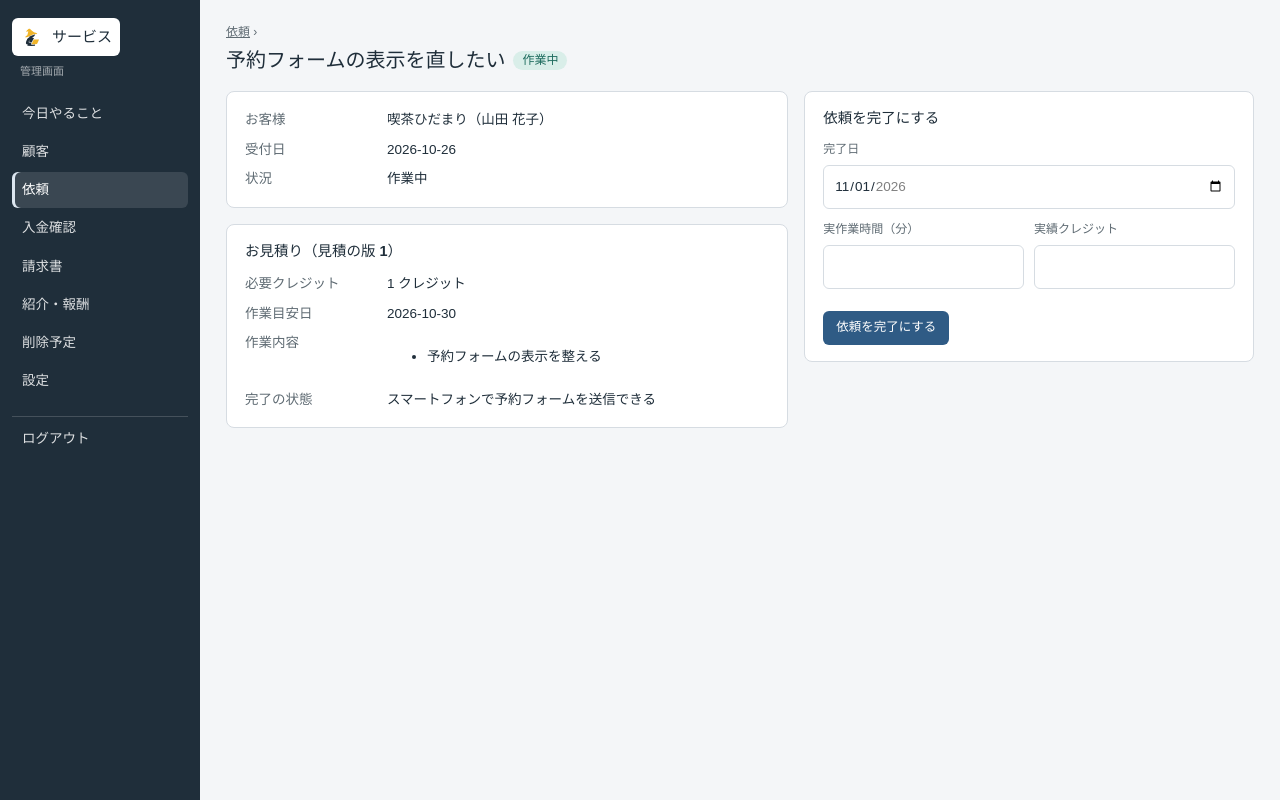
Test: request and estimate routes › records 0 actual credits separately from actual minutes after explicit confirmation
The width and height of the screenshot is (1280, 800).
Type "2026-10-27" into the date field labelled "完了日". click: x=1029, y=187
box: top-left (823, 165), bottom-right (1235, 209)
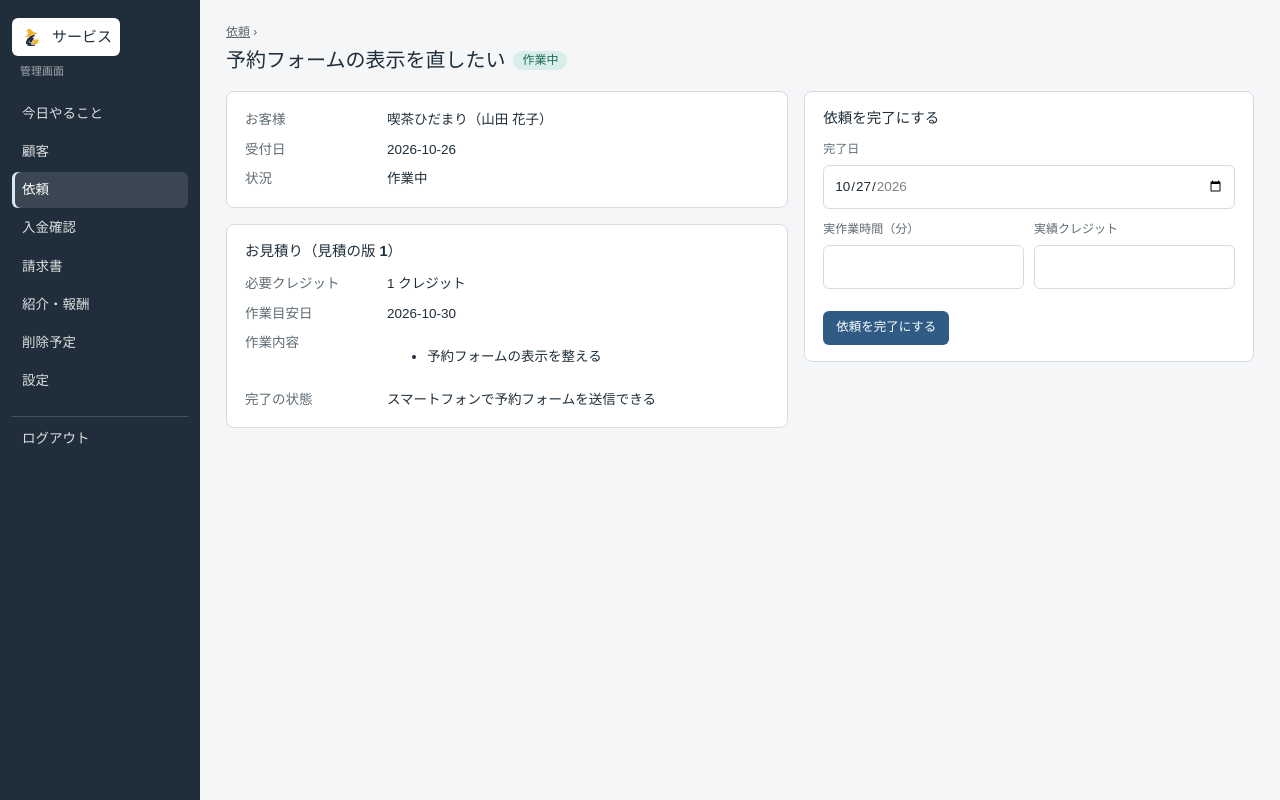
Type "45" into the number field labelled "実作業時間（分）". click: x=924, y=267
box: top-left (823, 245), bottom-right (1024, 289)
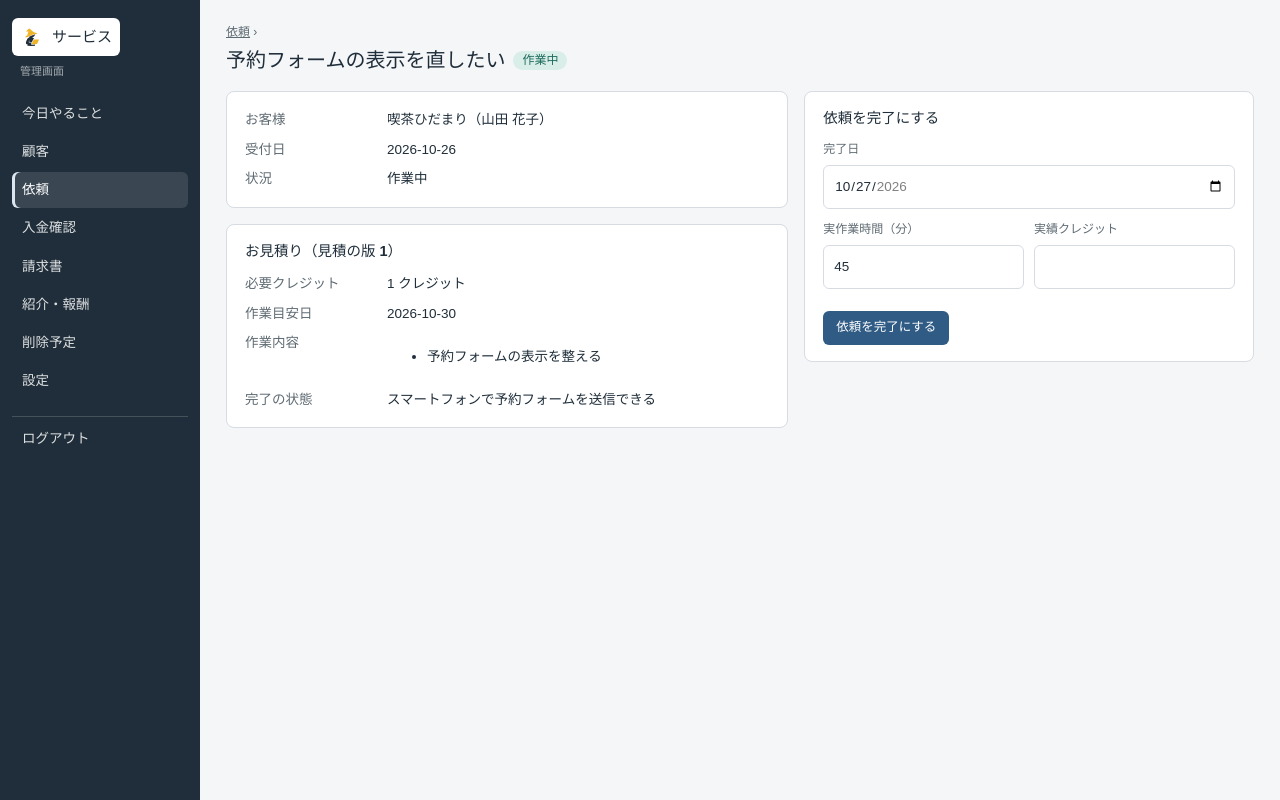
Type "0" into the number field labelled "実績クレジット". click: x=1135, y=267
box: top-left (1034, 245), bottom-right (1235, 289)
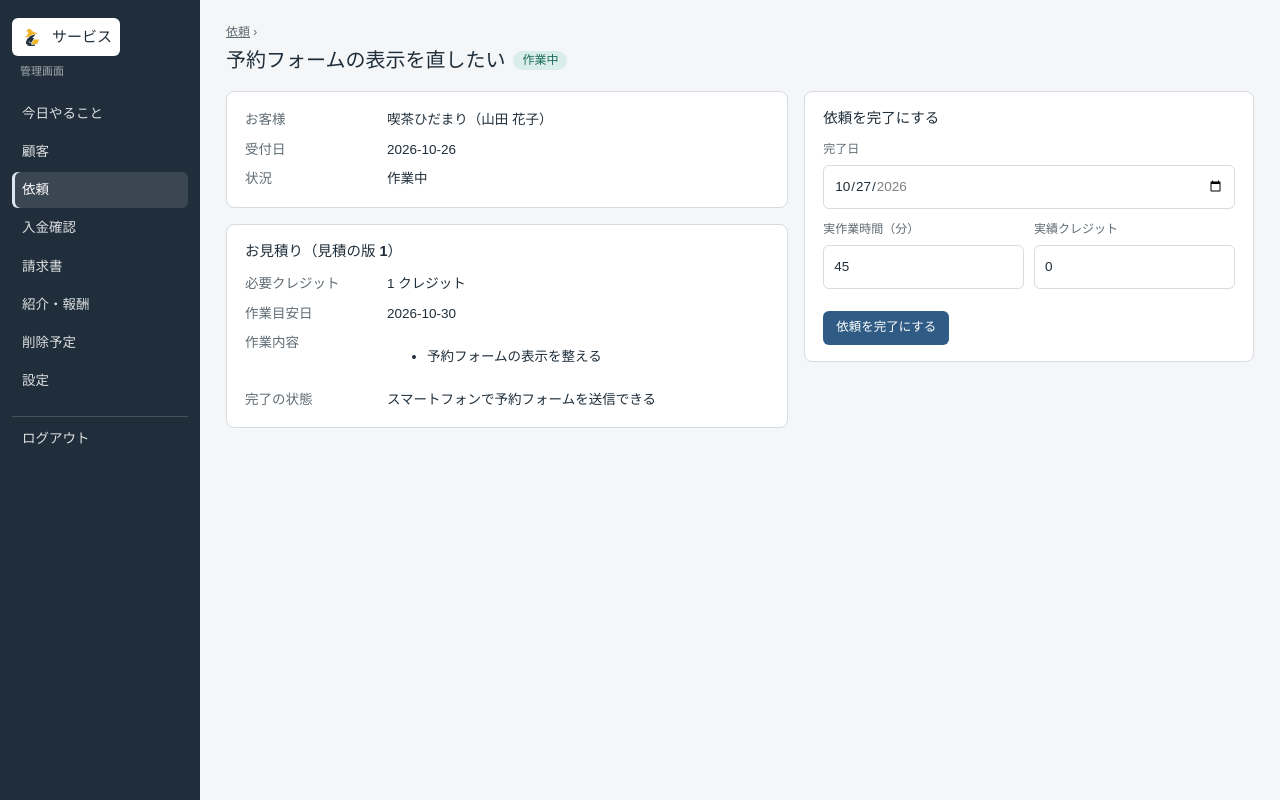
Click the button "依頼を完了にする". click: x=886, y=328
box: top-left (823, 311), bottom-right (949, 345)
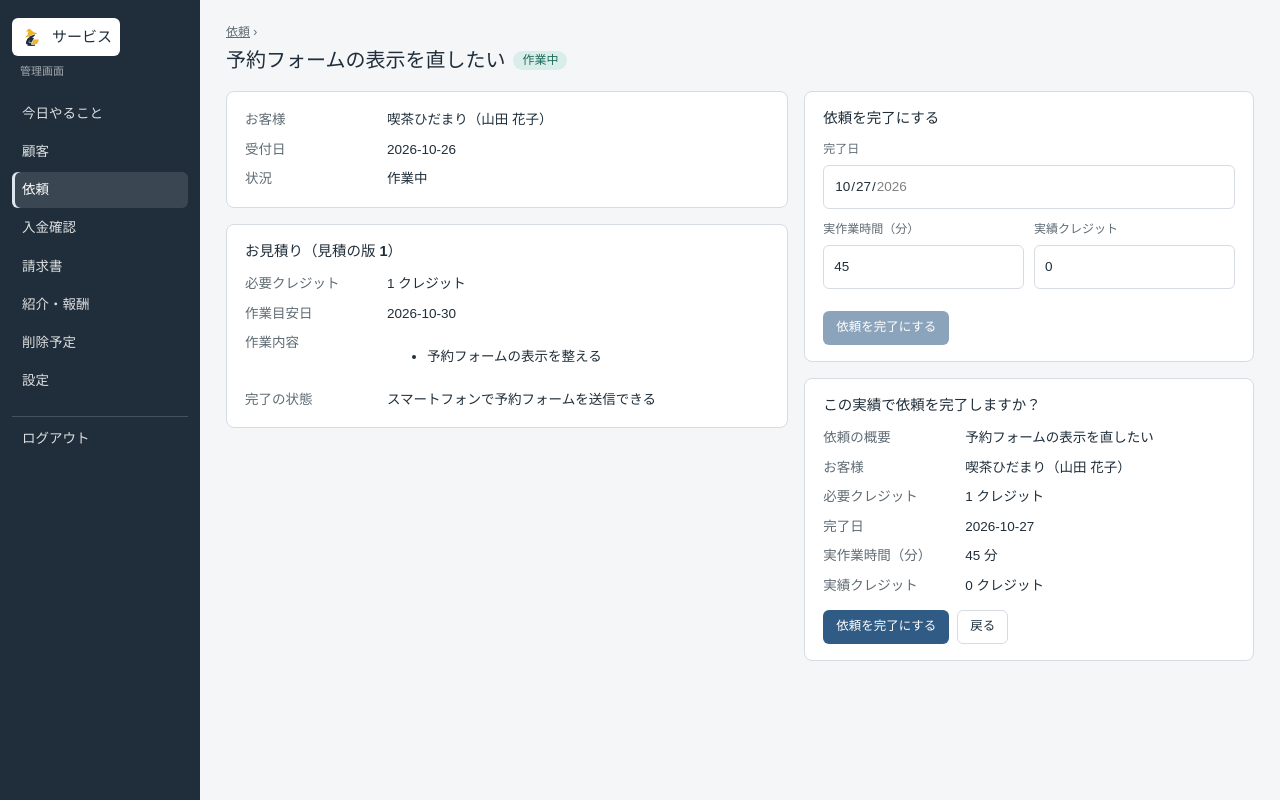
Expected: the text "予約フォームの表示を直したい" is shown, top-left (965, 430), bottom-right (1154, 445)
Expected: the text "喫茶ひだまり（山田 花子）" below "依頼の概要" is shown, top-left (965, 460), bottom-right (1131, 474)
Expected: the text "1 クレジット" below "依頼の概要" is shown, top-left (965, 489), bottom-right (1044, 504)
Click the button "依頼を完了にする" below "0 クレジット". click: x=886, y=627
box: top-left (823, 610), bottom-right (949, 644)
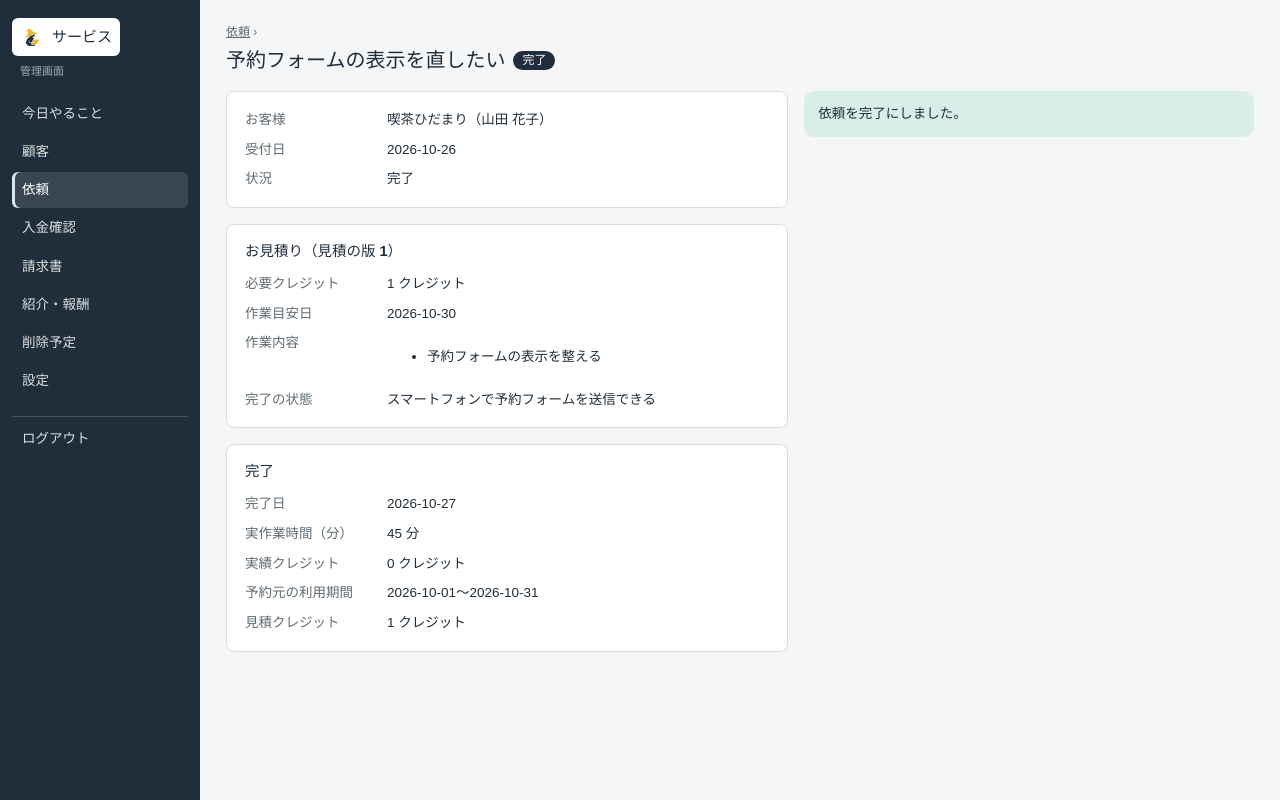
Expected: the text "2026-10-27" is shown, top-left (387, 496), bottom-right (456, 511)
Expected: the text "予約元の利用期間" is shown, top-left (245, 585), bottom-right (353, 600)
